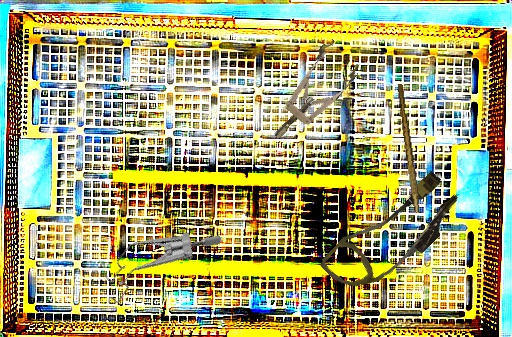Cannula: (317, 158, 469, 312)
Scalpel Handle: (394, 83, 424, 214)
Speculum: (90, 193, 225, 335), (258, 36, 365, 152)
